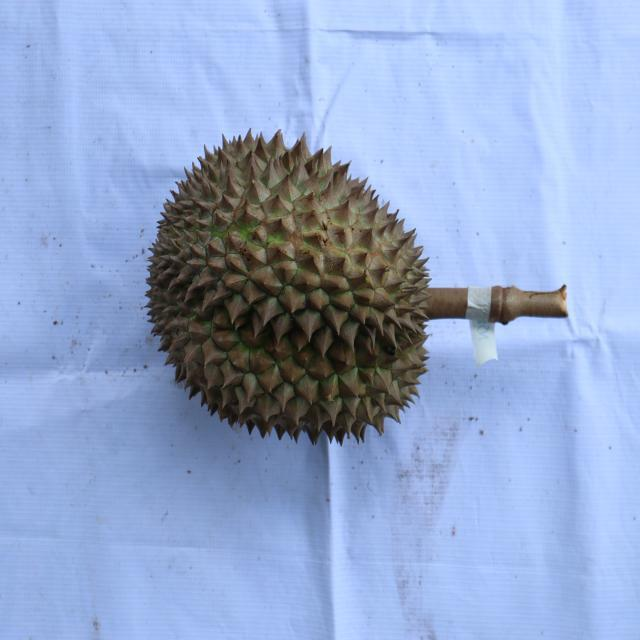mature: (143, 127, 435, 450)
